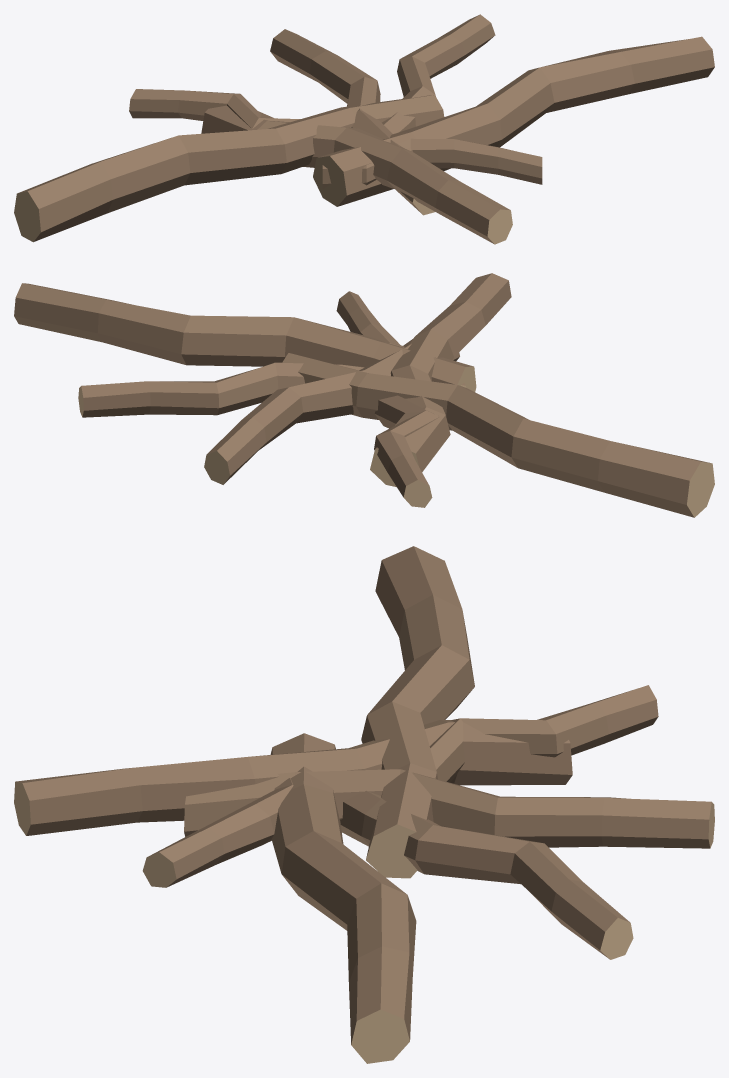
The model's file is 15-Recursos_monton_ramas.glb.
3 views of the same model, one above another, from view 1: azimuth 30°, elevation 25°; view 2: azimuth 150°, elevation 25°; view 3: azimuth 270°, elevation 25° (orthographic). The views are drawn at different scales.
Visible parts, largest first — view 1: SM_Monton_Rama_1, SM_Monton_Rama_2, SM_Monton_Rama_4, SM_Monton_Rama_3, SM_Monton_Rama_5, SM_Monton_Rama_7, SM_Monton_Rama_6; view 2: SM_Monton_Rama_1, SM_Monton_Rama_2, SM_Monton_Rama_4, SM_Monton_Rama_5, SM_Monton_Rama_3, SM_Monton_Rama_6, SM_Monton_Rama_7; view 3: SM_Monton_Rama_2, SM_Monton_Rama_4, SM_Monton_Rama_1, SM_Monton_Rama_3, SM_Monton_Rama_5, SM_Monton_Rama_6, SM_Monton_Rama_7.
Part boxes in pixels (box(x1,y1,x2,y2)): SM_Monton_Rama_1: box(14, 95, 444, 242); SM_Monton_Rama_2: box(313, 36, 714, 206); SM_Monton_Rama_4: box(201, 105, 512, 244); SM_Monton_Rama_3: box(270, 29, 434, 215); SM_Monton_Rama_5: box(382, 14, 495, 133); SM_Monton_Rama_7: box(322, 138, 542, 188); SM_Monton_Rama_6: box(129, 89, 300, 128); SM_Monton_Rama_1: box(282, 353, 714, 517); SM_Monton_Rama_2: box(14, 283, 476, 391); SM_Monton_Rama_4: box(370, 273, 511, 487); SM_Monton_Rama_5: box(78, 362, 364, 417); SM_Monton_Rama_3: box(204, 339, 459, 484); SM_Monton_Rama_6: box(374, 395, 439, 507); SM_Monton_Rama_7: box(336, 291, 465, 387); SM_Monton_Rama_2: box(270, 733, 416, 1063); SM_Monton_Rama_4: box(14, 719, 572, 835); SM_Monton_Rama_1: box(361, 546, 474, 878); SM_Monton_Rama_3: box(184, 769, 714, 848); SM_Monton_Rama_5: box(340, 790, 633, 959); SM_Monton_Rama_6: box(429, 685, 658, 782); SM_Monton_Rama_7: box(142, 778, 293, 887).
Bounding box in the file's own units: 1.57 × 0.1336 × 0.999.
